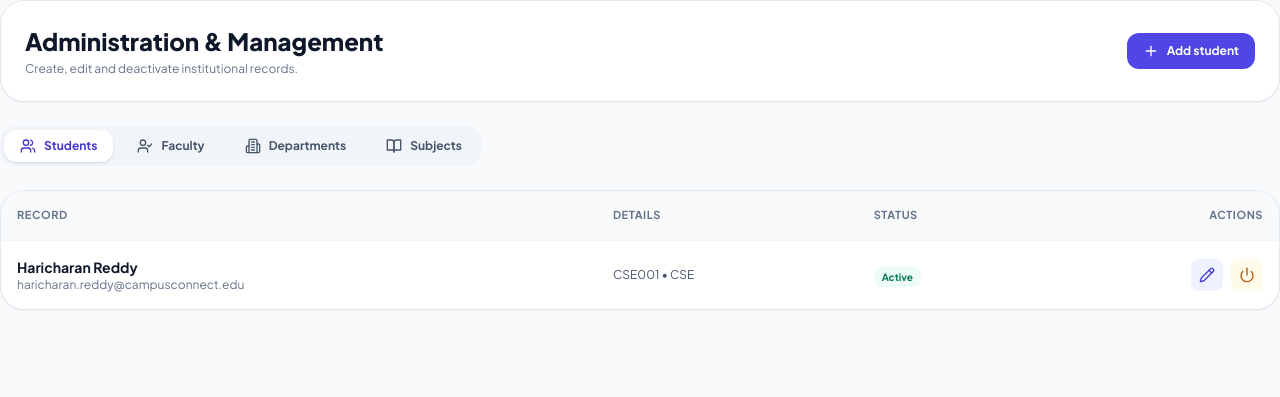
it: CampusConnect admin management › deactivates an active student after confirmation
The image size is (1280, 397).
Expected: the text "Haricharan Reddy" is shown, [17,258,138,276]
Click the button titled "Deactivate" at x=1247, y=274, box [1231,258,1263,290]
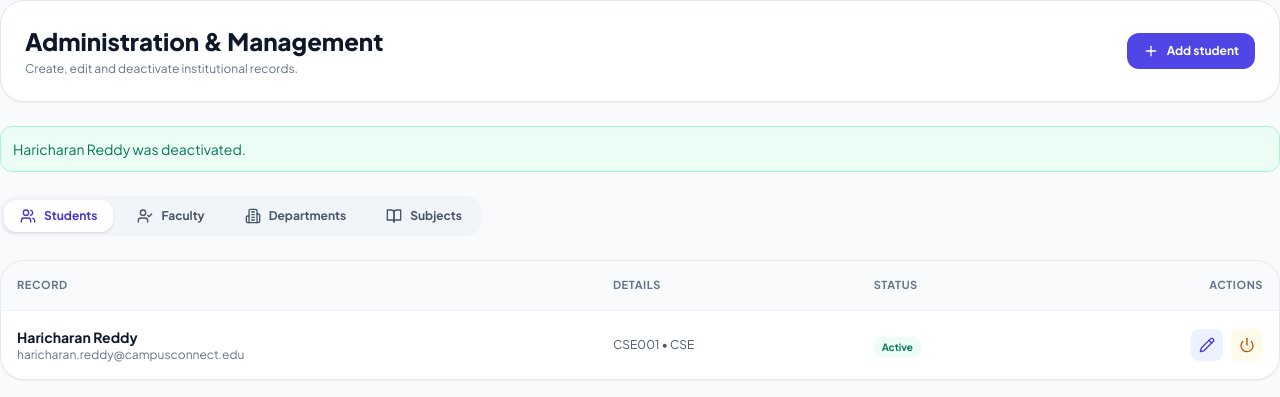
Expected: the text "Haricharan Reddy was deactivated." is shown, [0,126,1279,172]
